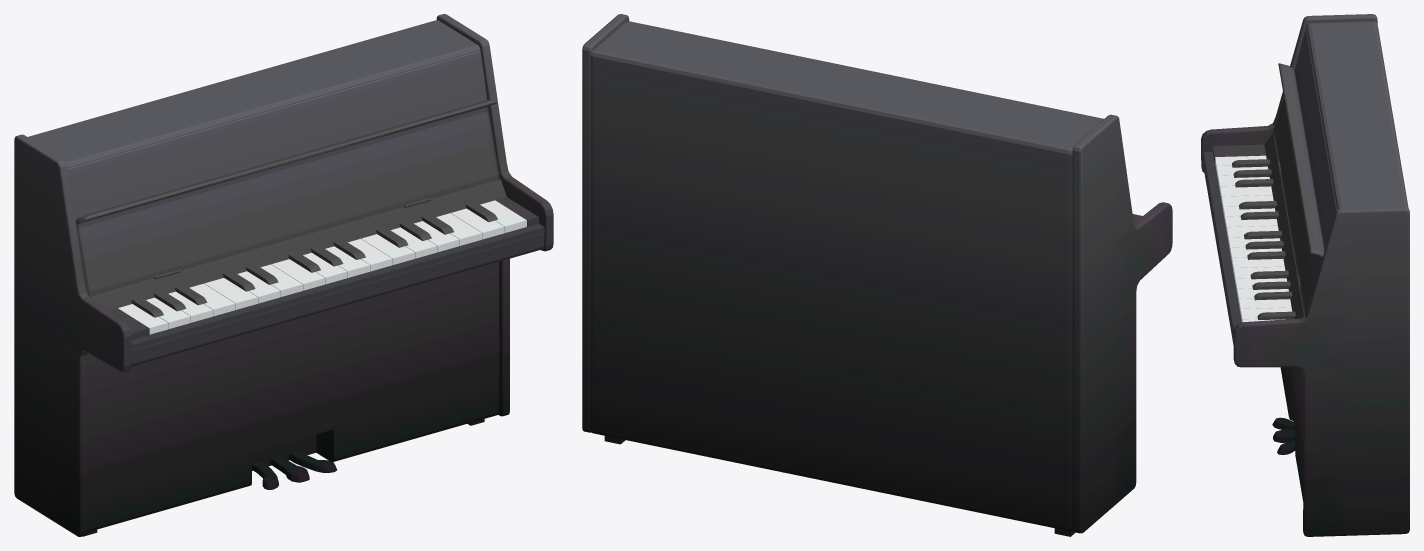
The model's file is piano.fbx.
3 views of the same model, side by side, from view 1: azimuth 30°, elevation 25°; view 2: azimuth 150°, elevation 25°; view 3: azimuth 270°, elevation 25° (orthographic). The views are drawn at different scales.
Visible parts, largest first — view 1: polySurface53, polySurface15, polySurface12, polySurface8, polySurface4, polySurface3, polySurface5, polySurface16, polySurface9, polySurface19; view 2: polySurface53; view 3: polySurface53, polySurface16, polySurface5, polySurface9, polySurface13, polySurface15, polySurface12, polySurface8, polySurface4, polySurface7, polySurface14, polySurface11 (+17 smaller).
Part boxes in pixels (box(x1,y1,x2,y2)): polySurface53: box(14, 14, 553, 536); polySurface15: box(204, 278, 257, 309); polySurface12: box(271, 259, 325, 290); polySurface8: box(361, 234, 414, 264); polySurface4: box(451, 208, 504, 239); polySurface3: box(480, 200, 526, 232); polySurface5: box(436, 213, 482, 245); polySurface16: box(189, 283, 235, 316); polySurface9: box(348, 238, 392, 271); polySurface19: box(118, 304, 168, 334); polySurface53: box(582, 14, 1172, 536); polySurface53: box(1201, 14, 1409, 536); polySurface16: box(1220, 186, 1272, 200); polySurface5: box(1239, 298, 1291, 313); polySurface9: box(1232, 257, 1284, 273); polySurface13: box(1225, 216, 1277, 232); polySurface15: box(1221, 195, 1273, 212); polySurface12: box(1227, 226, 1278, 242); polySurface8: box(1234, 266, 1285, 283); polySurface4: box(1240, 307, 1292, 322); polySurface7: box(1235, 278, 1287, 293); polySurface14: box(1223, 206, 1275, 222); polySurface11: box(1228, 237, 1280, 252).
Bounding box in the file's own units: 169 × 130 × 74.
1 material, 1 textured.
